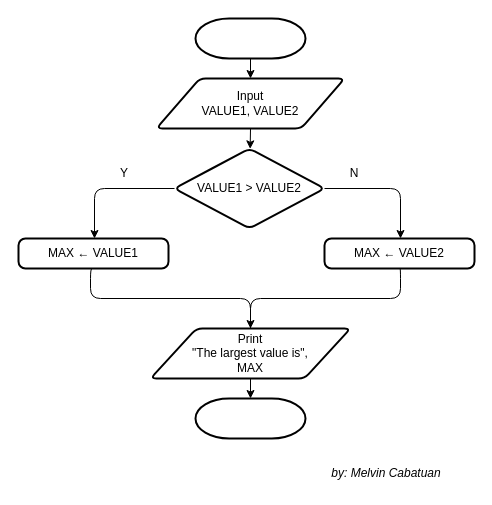
Some shapes in this 492 by 505 pixel diagram are drawn without their labels. The shapes that lost their labels are listed below. From the top down, each one's centre as x and y in pixels, then its label:
At pixel 250 38: "START".
At pixel 250 418: "STOP".
